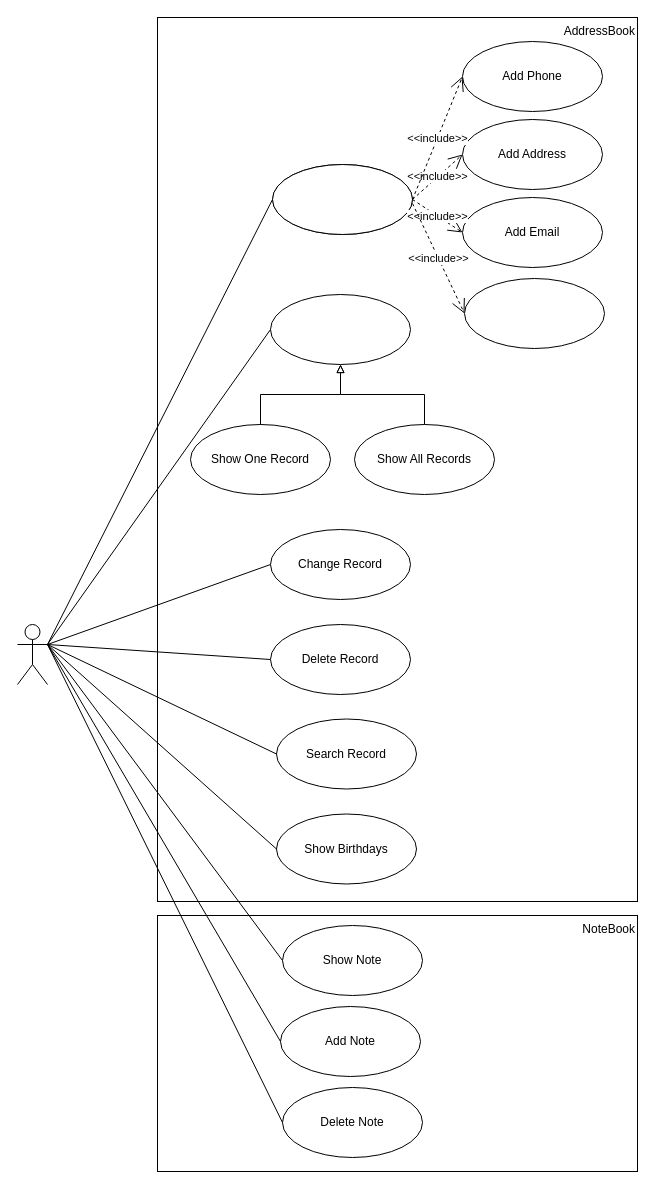
This 655x1189 diagram has some shape labels left out. Here are the shapes that lost their labels. From the top down, the centre of each, then its label:
At [342,199]: "Add Record".
At [340,329]: "Show Record".
At [534,313]: "Add Birthday".
At [32,654]: "User".
